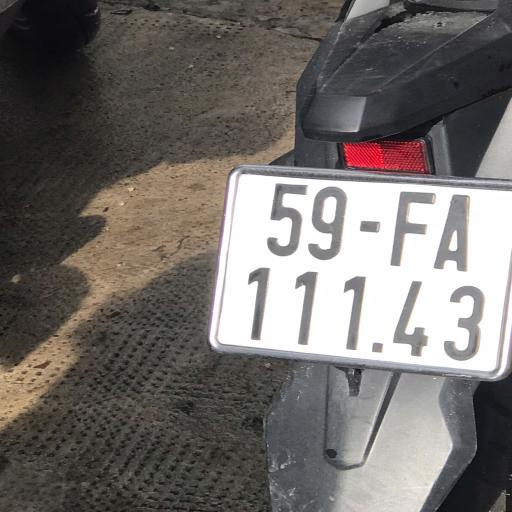1: (230, 258, 284, 356), (275, 268, 326, 356), (332, 271, 373, 360)
3: (435, 286, 499, 372)
4: (388, 272, 443, 368)
5: (263, 181, 309, 264)
9: (303, 182, 348, 264)
A: (432, 187, 478, 282)
F: (377, 182, 435, 264)
